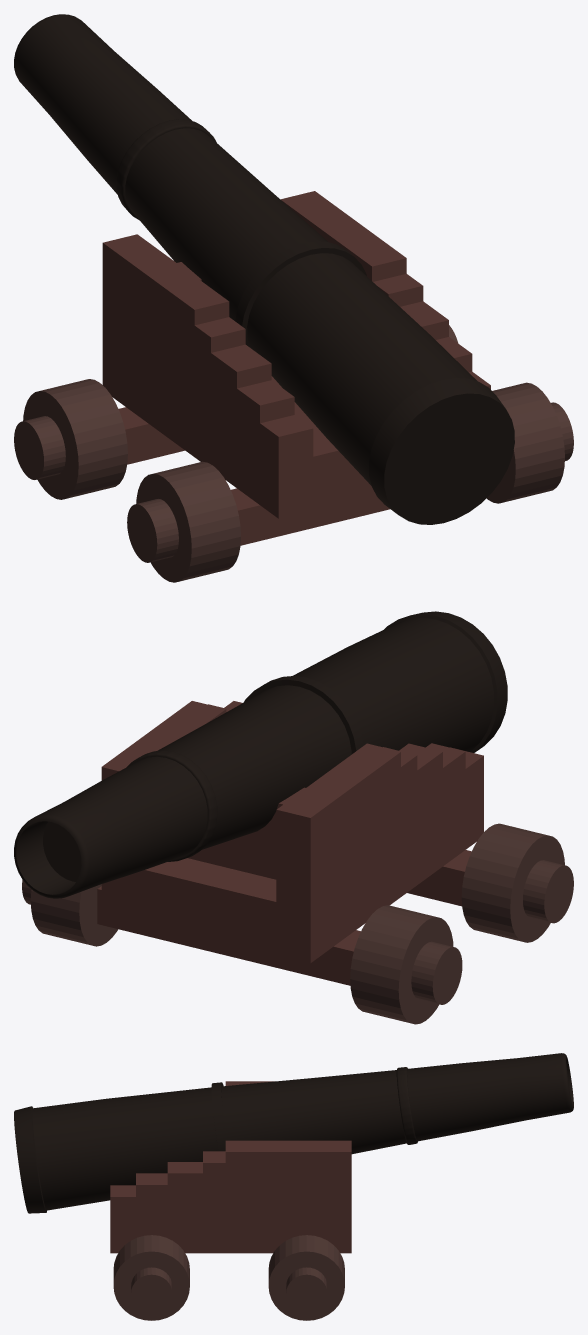
Rendered from Cannon.fbx.
The picture shows the model from 3 angles, top to bottom: view 1: azimuth 30°, elevation 25°; view 2: azimuth 150°, elevation 25°; view 3: azimuth 270°, elevation 25°; orthographic projection. The views are drawn at different scales.
Parts seen in each view (by area): view 1: Cylinder.004, Cube, Cylinder.003, Cylinder.002, Cylinder; view 2: Cylinder.004, Cube, Cylinder.003, Cylinder.002, Cylinder.001; view 3: Cylinder.004, Cube, Cylinder.001, Cylinder.
Boxes of the visible parts, x1=… form: Cylinder.004: x1=14, y1=14, x2=514, y2=524; Cube: x1=102, y1=191, x2=490, y2=545; Cylinder.003: x1=127, y1=461, x2=240, y2=582; Cylinder.002: x1=14, y1=379, x2=127, y2=499; Cylinder: x1=486, y1=382, x2=573, y2=503; Cylinder.004: x1=14, y1=611, x2=507, y2=898; Cube: x1=97, y1=701, x2=483, y2=985; Cylinder.003: x1=461, y1=823, x2=573, y2=942; Cylinder.002: x1=350, y1=905, x2=462, y2=1024; Cylinder.001: x1=22, y1=880, x2=117, y2=946; Cylinder.004: x1=14, y1=1053, x2=573, y2=1213; Cube: x1=110, y1=1081, x2=351, y2=1253; Cylinder.001: x1=268, y1=1235, x2=344, y2=1320; Cylinder: x1=113, y1=1235, x2=189, y2=1320.
Size of the model in its own units: 393 by 268 by 667.
